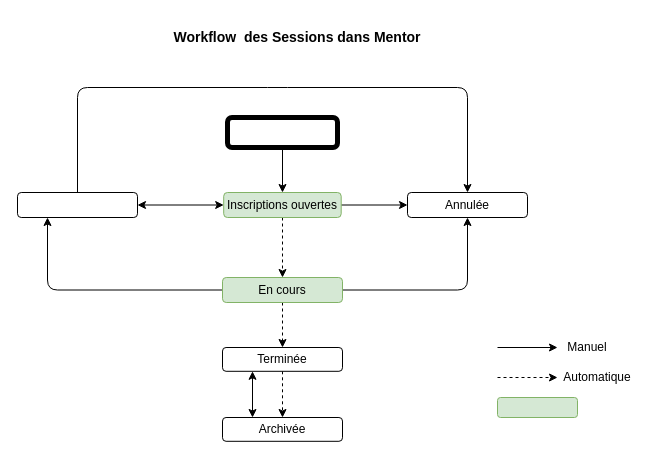
Some shapes in this 648 by 459 pixel diagram are drawn without their labels. Here are the shapes that lost their labels. From the top down, the centre of each, then its label:
pixel 282 132: En préparation
pixel 77 205: Reportée
pixel 537 407: Visible
